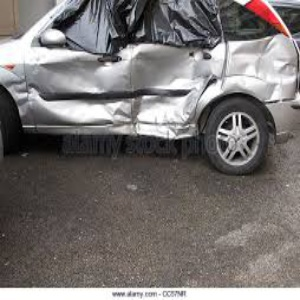door: (35, 58, 198, 127)
